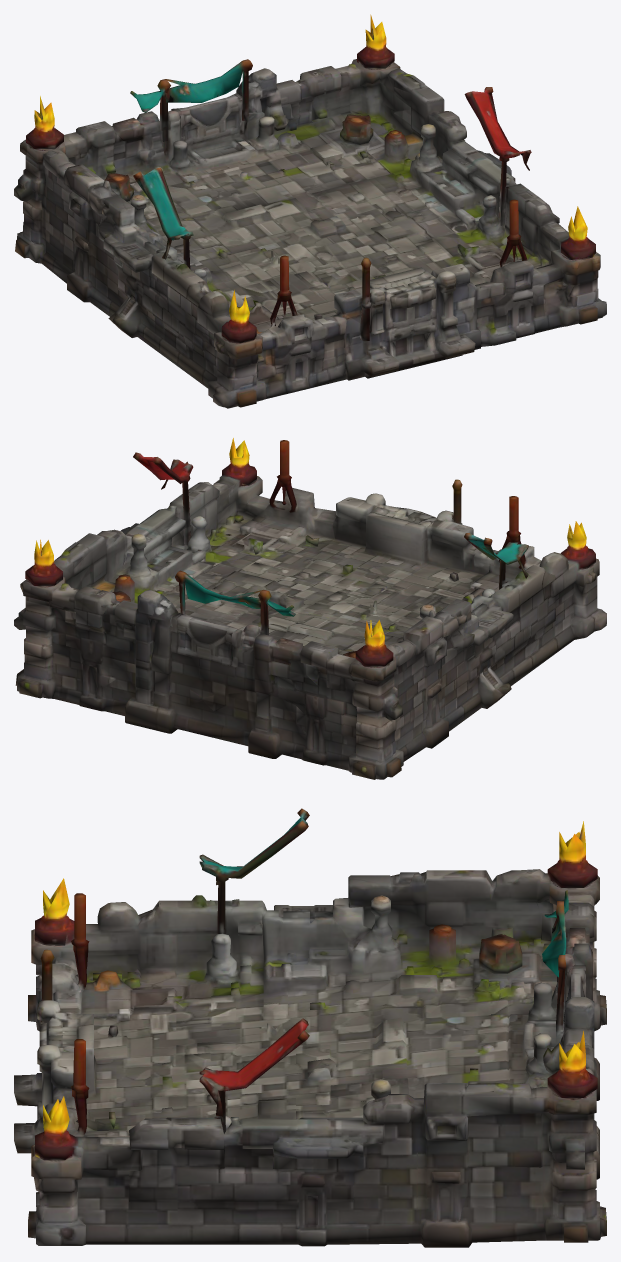
Rendered from map.glb.
The picture shows the model from 3 angles, top to bottom: view 1: azimuth 30°, elevation 25°; view 2: azimuth 150°, elevation 25°; view 3: azimuth 270°, elevation 25°; orthographic projection. The views are drawn at different scales.
Parts seen in each view (by area): view 1: tripo_node_80fb55da-f68c-4b0f-86d8-61428a41c274; view 2: tripo_node_80fb55da-f68c-4b0f-86d8-61428a41c274; view 3: tripo_node_80fb55da-f68c-4b0f-86d8-61428a41c274.
Boxes of the visible parts, box(x1,y1,x2,y2) form: tripo_node_80fb55da-f68c-4b0f-86d8-61428a41c274: box(14, 14, 606, 408); tripo_node_80fb55da-f68c-4b0f-86d8-61428a41c274: box(14, 438, 606, 779); tripo_node_80fb55da-f68c-4b0f-86d8-61428a41c274: box(14, 808, 606, 1247).
Bounding box in the file's own units: 0.9624 × 0.3929 × 0.97.
Materials: 1 (1 with a texture image).
